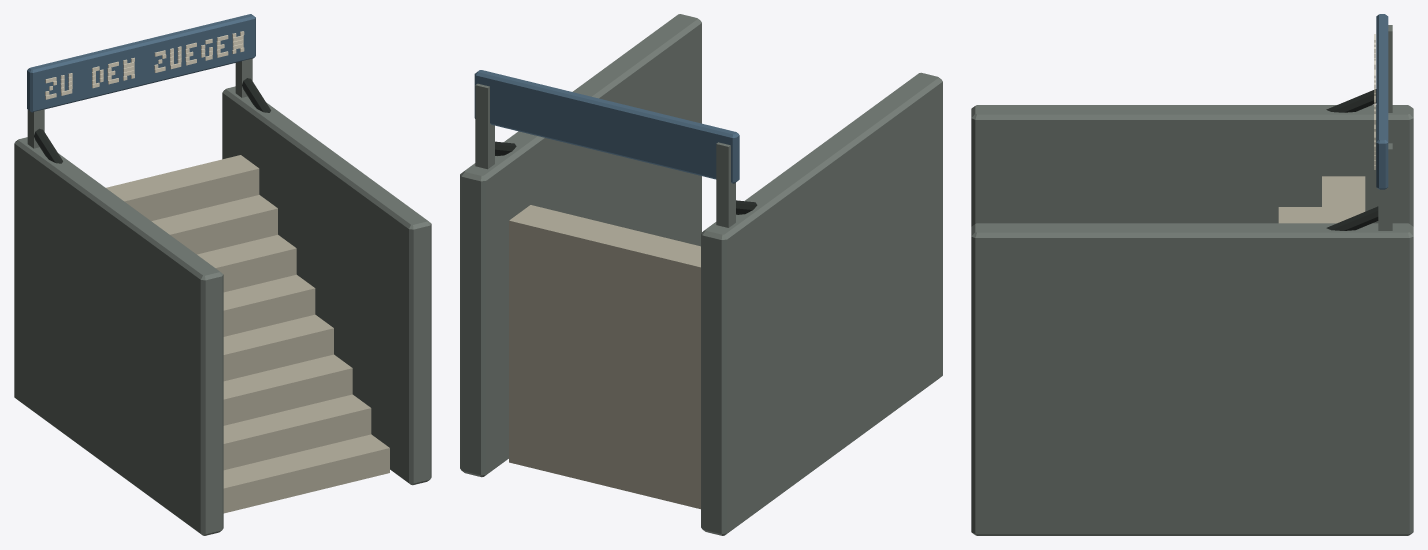
The model's file is underpass-entrance.glb.
3 renders of one model, left to right at view 1: azimuth 30°, elevation 25°; view 2: azimuth 150°, elevation 25°; view 3: azimuth 270°, elevation 25°, orthographic. The views are drawn at different scales.
Parts seen in each view (by area): view 1: underpass-entrance; view 2: underpass-entrance; view 3: underpass-entrance.
Part boxes in pixels (x1,y1,x2,y2): underpass-entrance: (14,14,431,535); underpass-entrance: (460,14,942,535); underpass-entrance: (971,14,1413,535).
Size of the model in its own units: 1.93 by 2.71 by 2.75.
